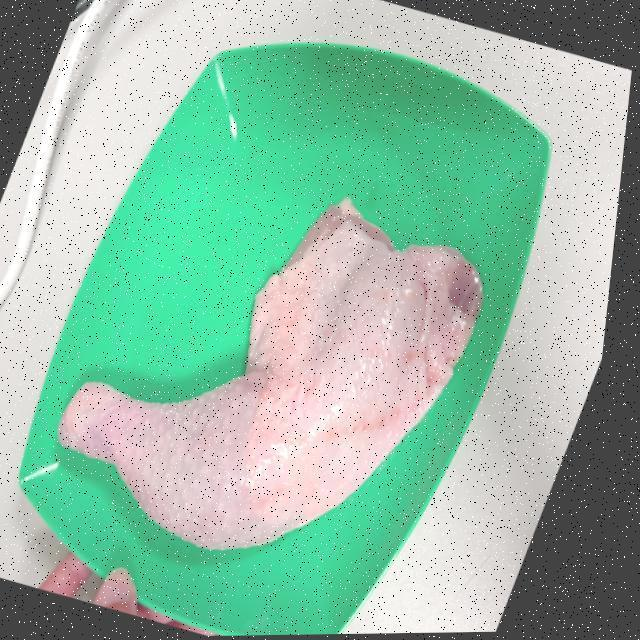quater: (58, 210, 484, 555)
